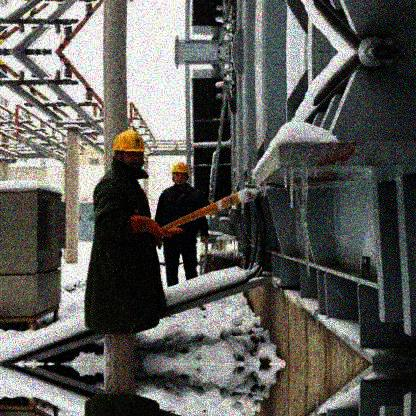helmet: (112, 127, 149, 178), (172, 163, 190, 190)
